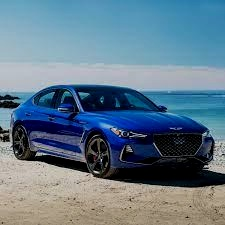car: (8, 76, 219, 178)
